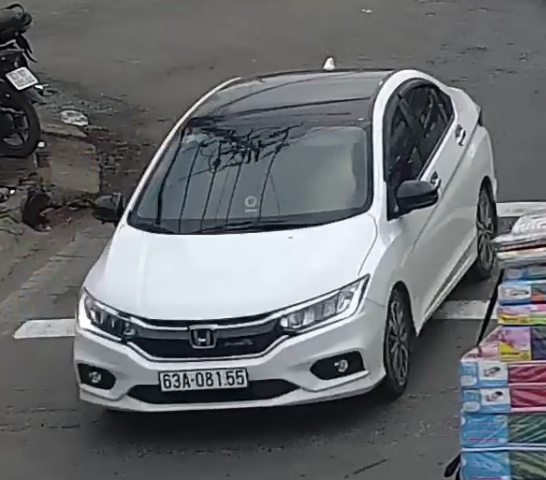vehicle plate: (158, 364, 260, 395)
